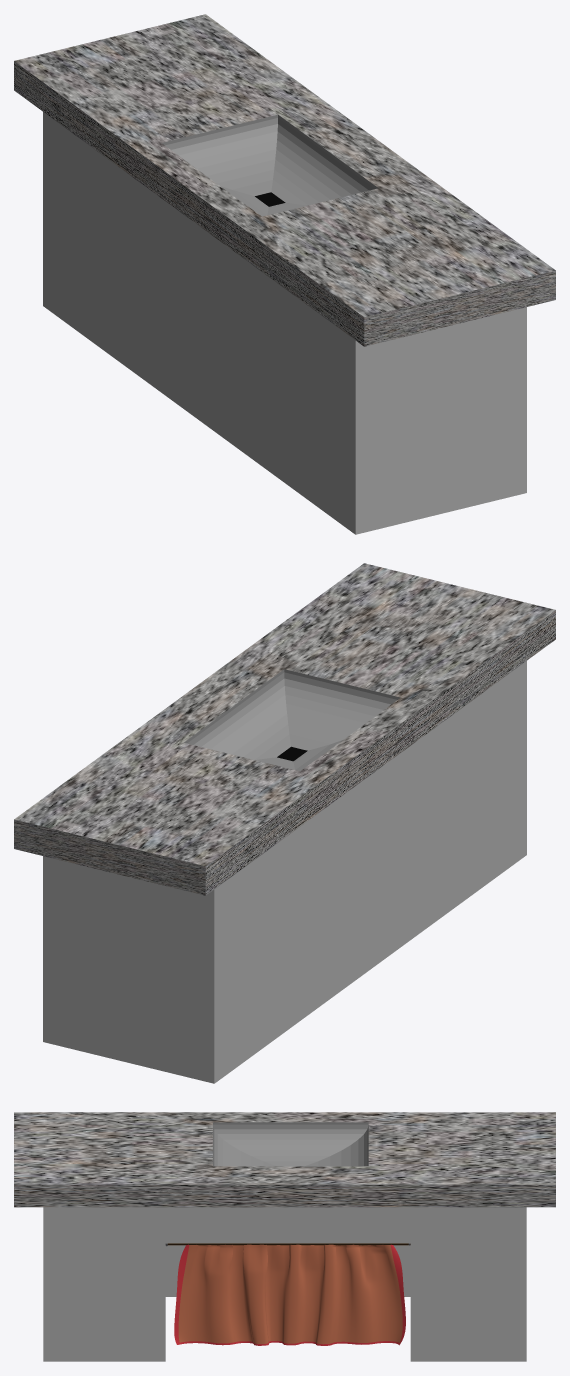
Rendered from Pia_V2.fbx.
3 renders of one model, top to bottom at view 1: azimuth 30°, elevation 25°; view 2: azimuth 150°, elevation 25°; view 3: azimuth 270°, elevation 25°, orthographic. The views are drawn at different scales.
Parts seen in each view (by area): view 1: Pia; view 2: Pia; view 3: Pia, Cortina, Barra.
Part boxes in pixels (x1,y1,x2,y2): Pia: (14,14,555,534); Pia: (14,563,555,1083); Pia: (14,1112,555,1361); Cortina: (174,1244,405,1345); Barra: (167,1243,410,1245).
Bounding box in the file's own units: 329 × 383 × 1041.
8 materials, 1 textured.
